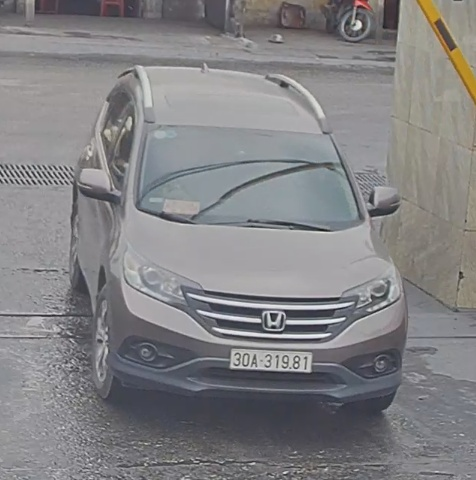vehicle plate: (228, 342, 316, 376)
